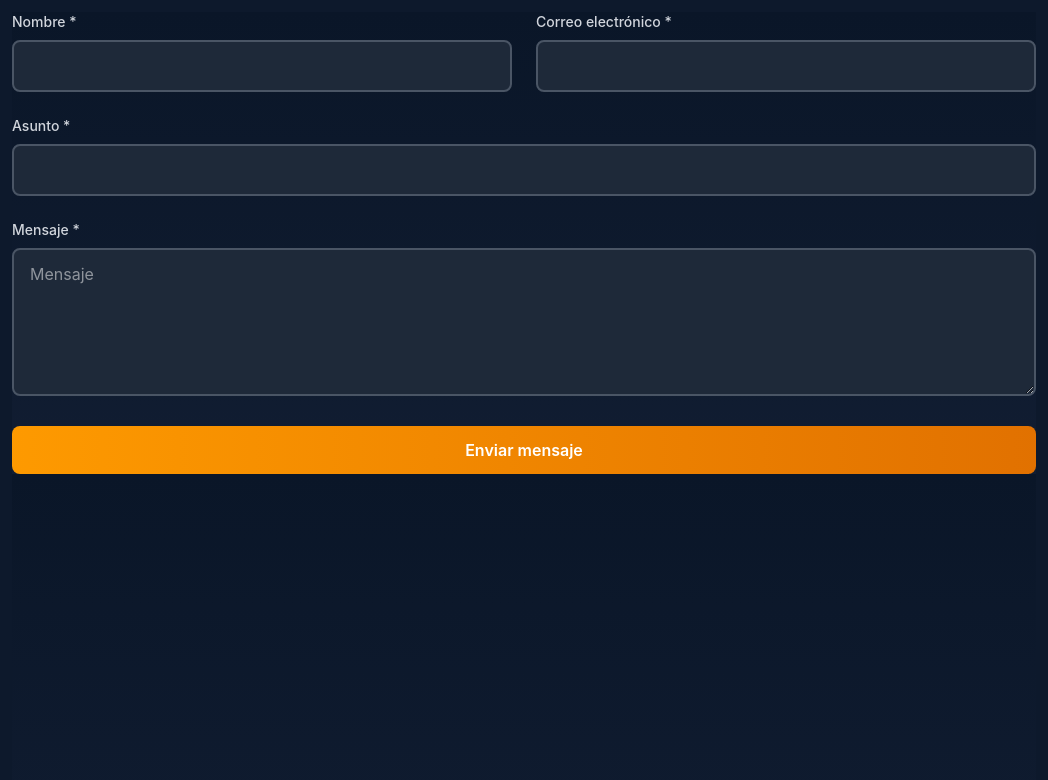
Test: ContactForm › shows validation errors for empty required fields
The width and height of the screenshot is (1048, 780).
Click the button "Enviar mensaje". click: coordinates (524, 450)
box: [12,426,1036,474]
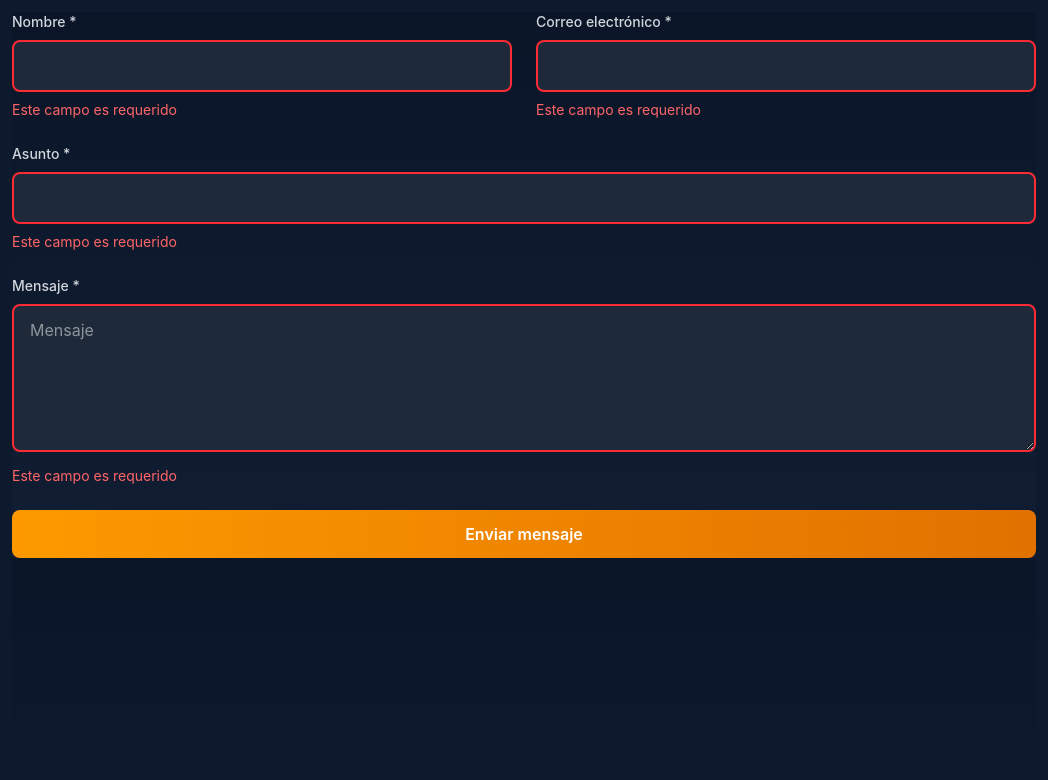
Expected: the text "Este campo es requerido" is shown 4 times, [12,101,177,118]; [536,101,701,118]; [12,233,177,250]; [12,467,177,484]
